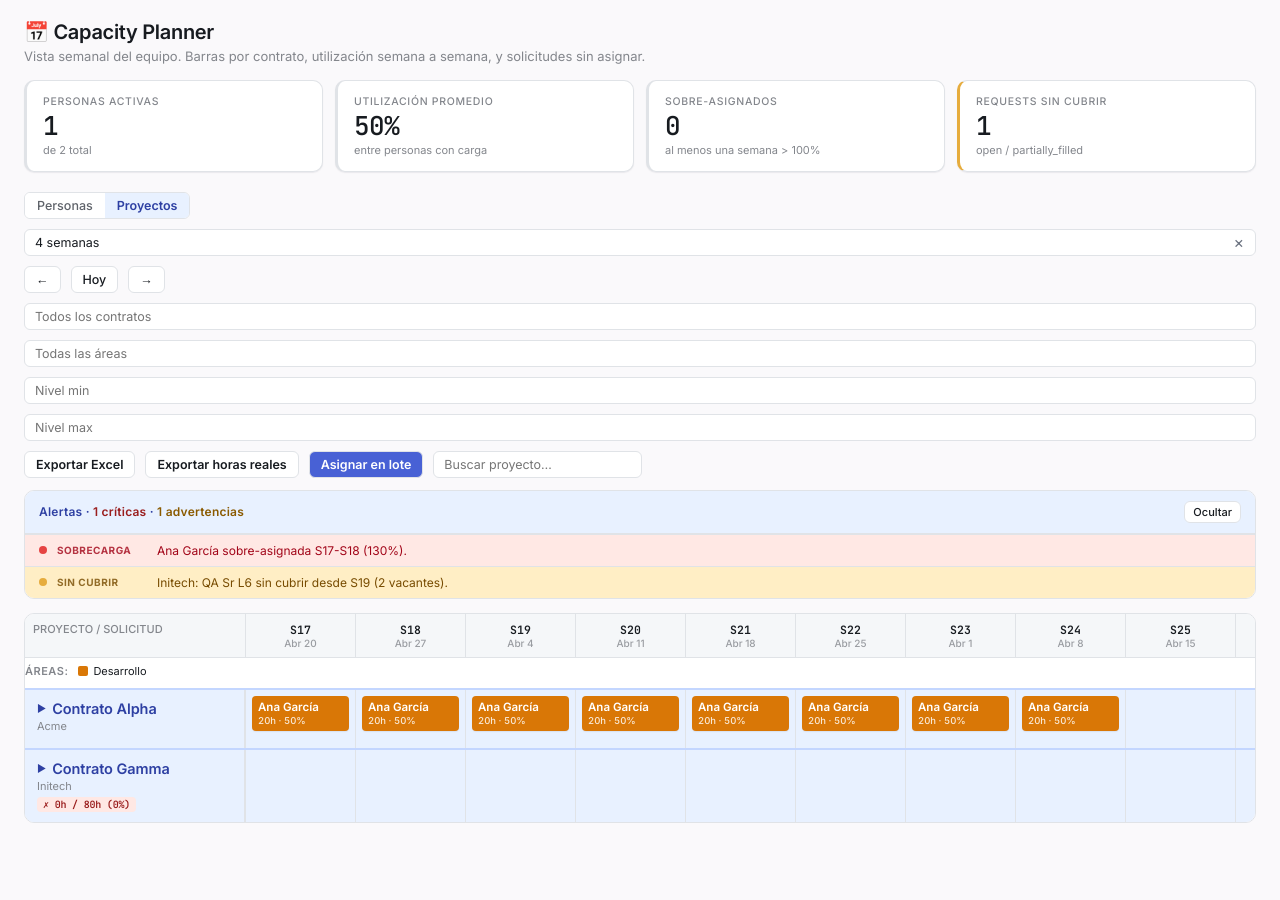
Test case: CapacityPlanner module › clicking an unfilled request sub-row opens candidates modal
Click the button with test id "contract-row-ct3" at (652, 785), box [25,748,1279,822]
(page scrolled)
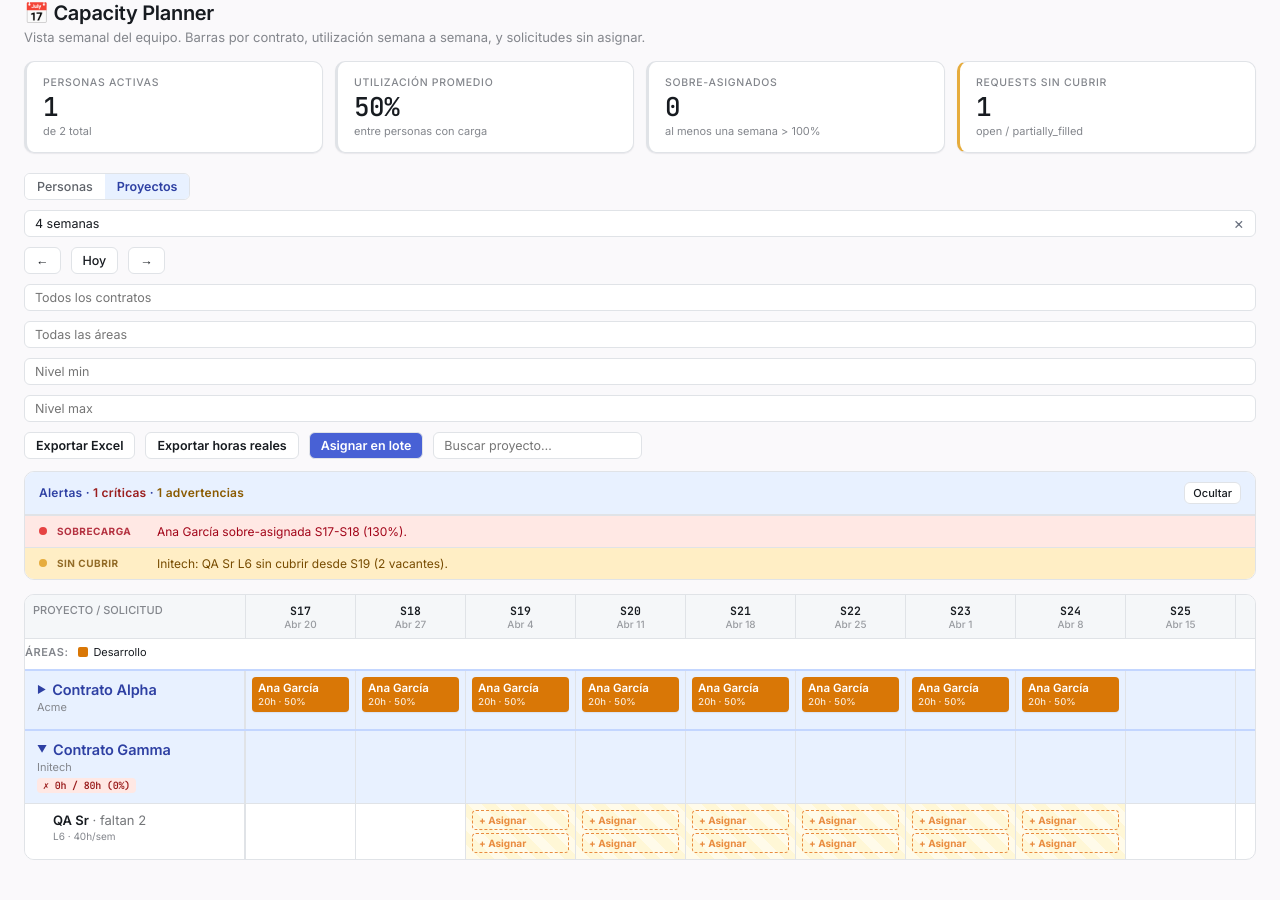
Click the button with test id "project-request-row-rr9" at (652, 831), box [25,803,1279,859]
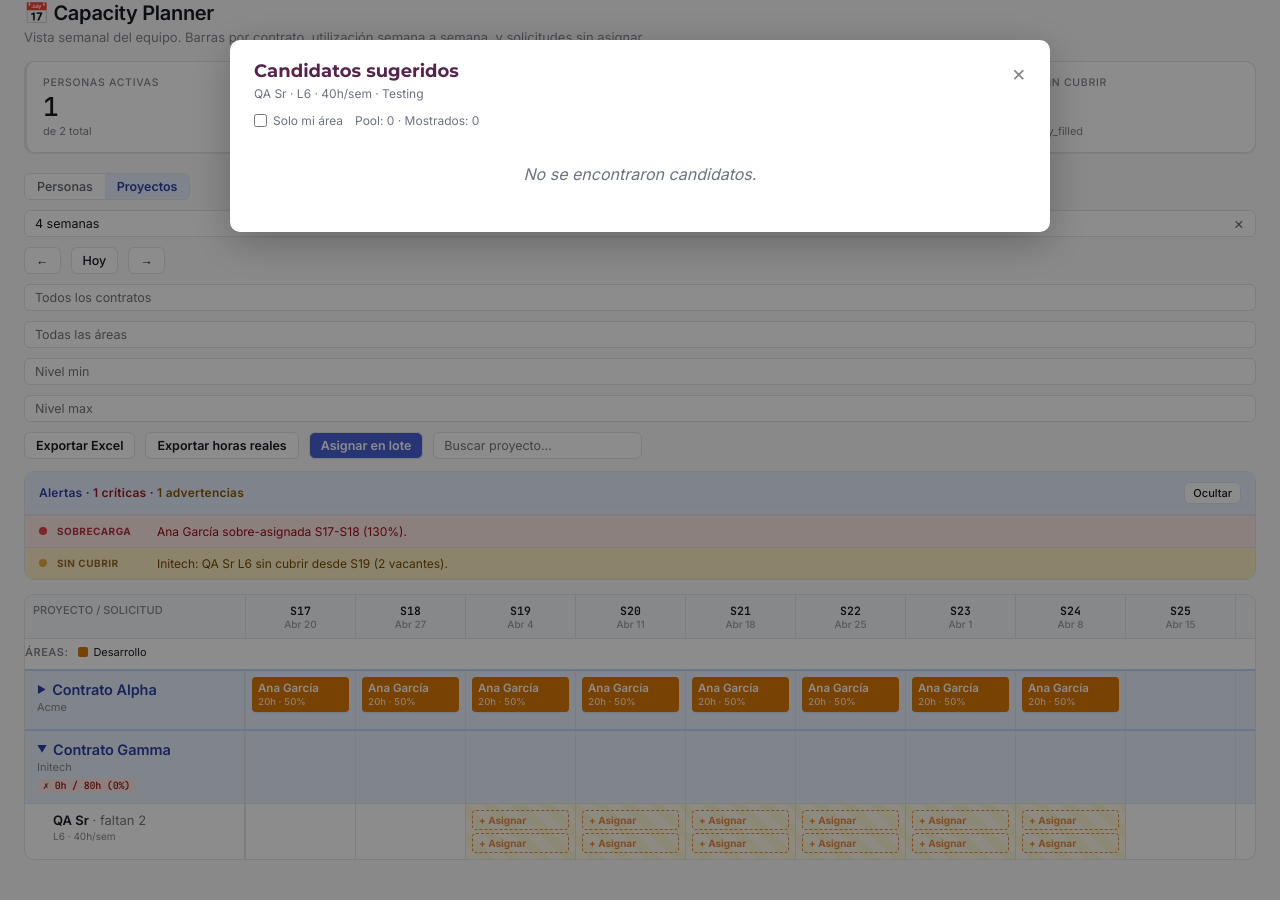
Result: the dialog "Candidatos" is shown
